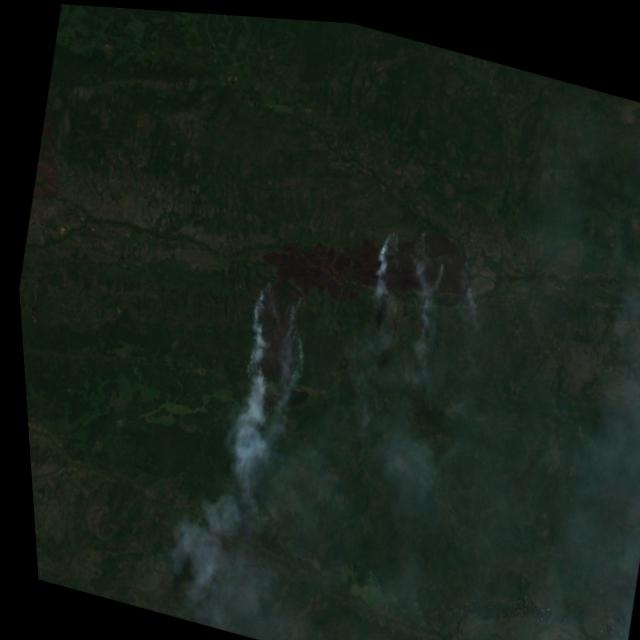fire: (216, 268, 322, 431), (361, 209, 486, 320)
